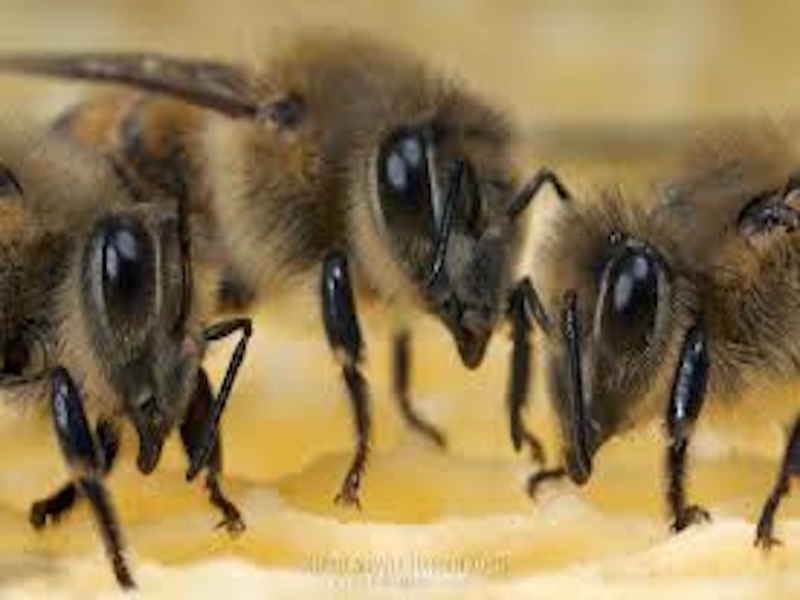abeja: (243, 26, 548, 500), (509, 159, 800, 525), (1, 170, 255, 544)
